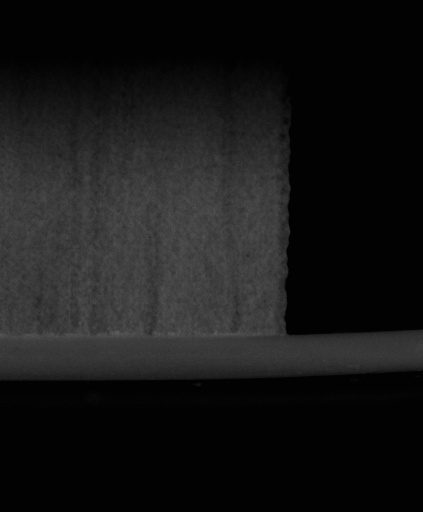changdai: (275, 330, 422, 378)
